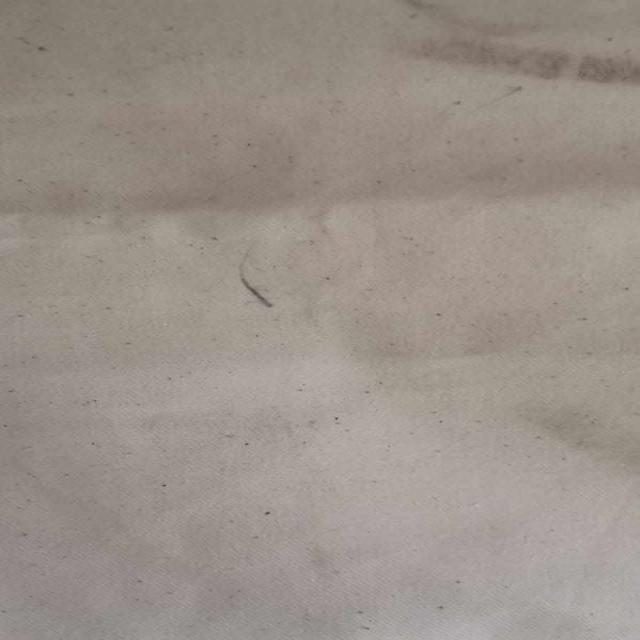taaaches: (382, 3, 640, 83), (218, 253, 306, 337), (472, 85, 541, 107)
